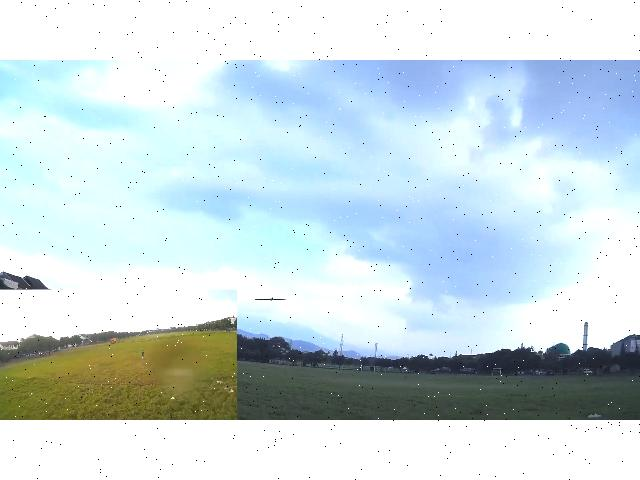Anti-Drone: (254, 298, 286, 301)
